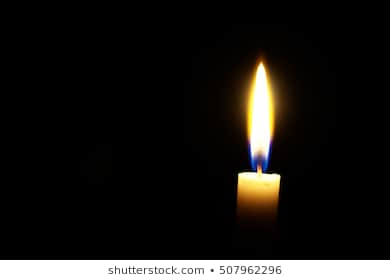Fire: (248, 54, 274, 173)
